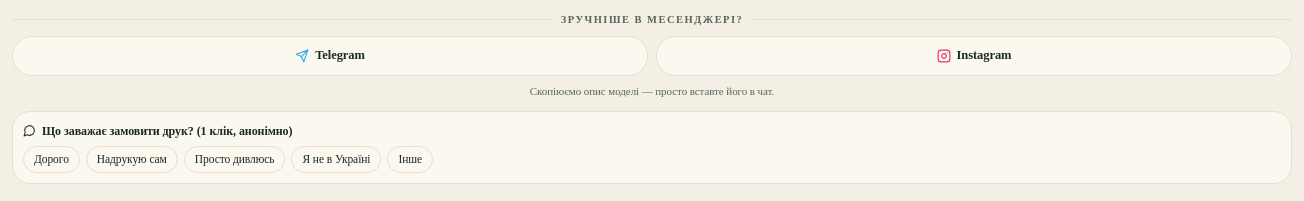
SalesAlternatives · відповідь на причину відмови › на причину «self» відповідає по суті, а не «дякуємо»
Click the button "Надрукую сам" at point(132, 160), box x1=86 y1=146 x2=178 y2=173
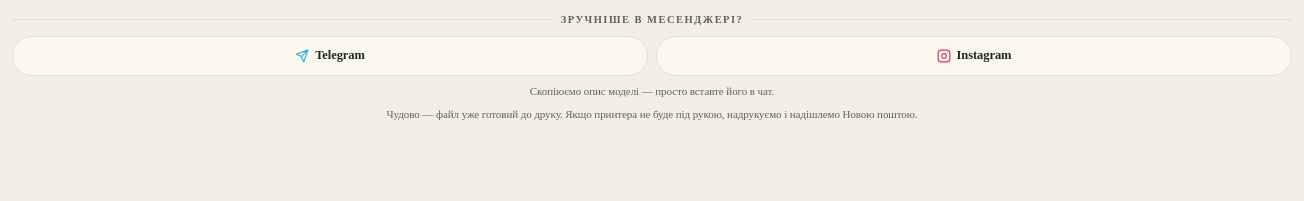
Expected: the text with test id "why-reply-self" does not show "Дякуємо, це допомагає зробити сервіс кращим.", x1=386 y1=108 x2=918 y2=120
Expected: the text with test id "why-reply-self" shows "Чудово — файл уже готовий до друку. Якщо принтера не буде під рукою, надрукуємо і надішлемо Новою поштою.", x1=386 y1=108 x2=918 y2=120
Expected: the element with test id "why-not-order" is gone
